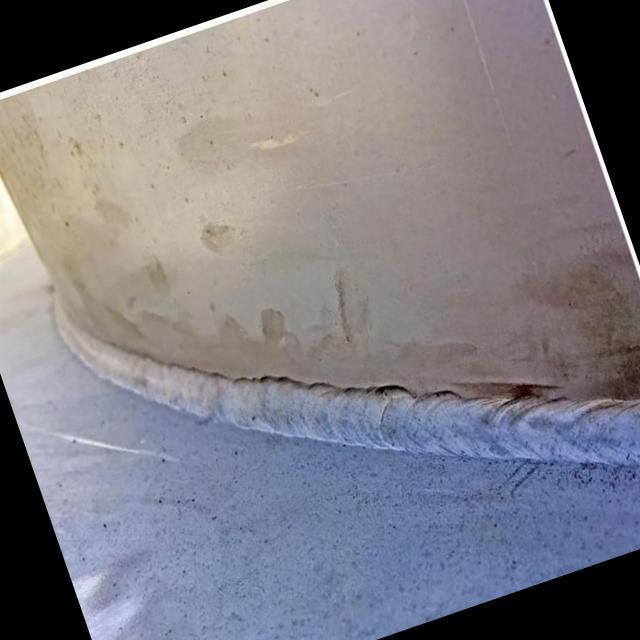defect: (95, 330, 419, 402)
